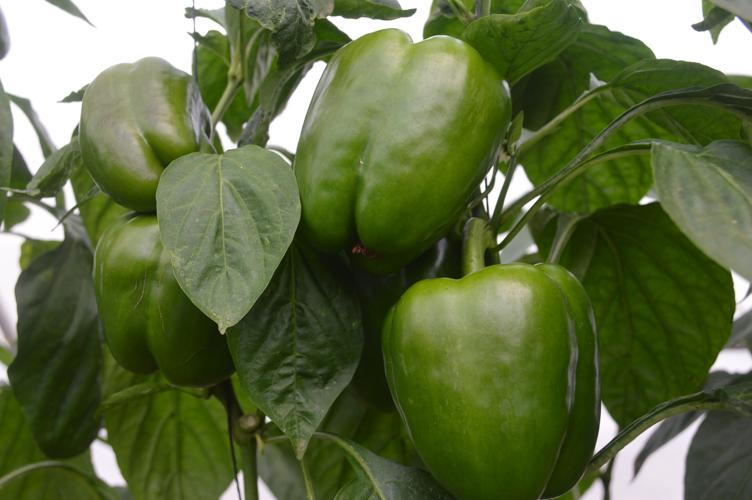BellPepper: (295, 29, 508, 271), (386, 263, 603, 497), (91, 213, 234, 393), (75, 57, 185, 206)
